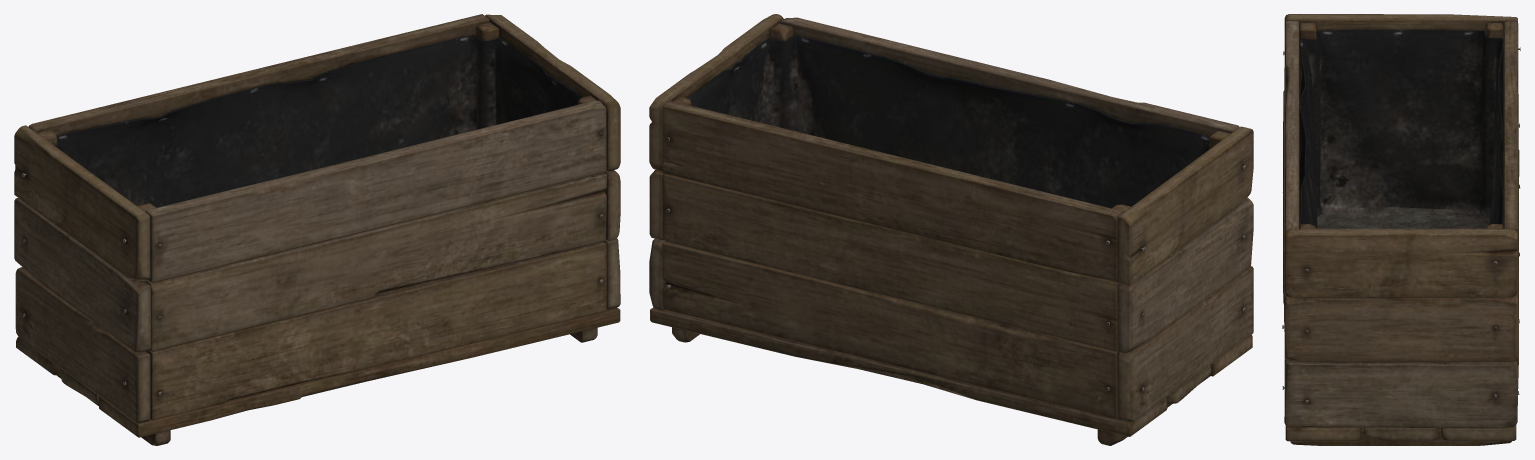
3 views of the same model, side by side, from view 1: azimuth 30°, elevation 25°; view 2: azimuth 150°, elevation 25°; view 3: azimuth 270°, elevation 25° (orthographic). The views are drawn at different scales.
Visible parts, largest first — view 1: planter_box_01; view 2: planter_box_01; view 3: planter_box_01.
Boxes of the visible parts, x1,y1,x2,y2 form: planter_box_01: (14, 14, 620, 445); planter_box_01: (649, 14, 1253, 445); planter_box_01: (1282, 14, 1520, 445).
Size of the model in its own units: 0.9126 by 0.425 by 0.4137.
Materials: 1 (1 with a texture image).
